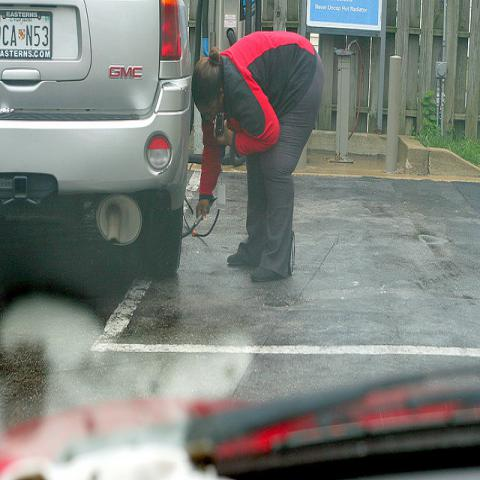truck: (2, 1, 191, 274)
